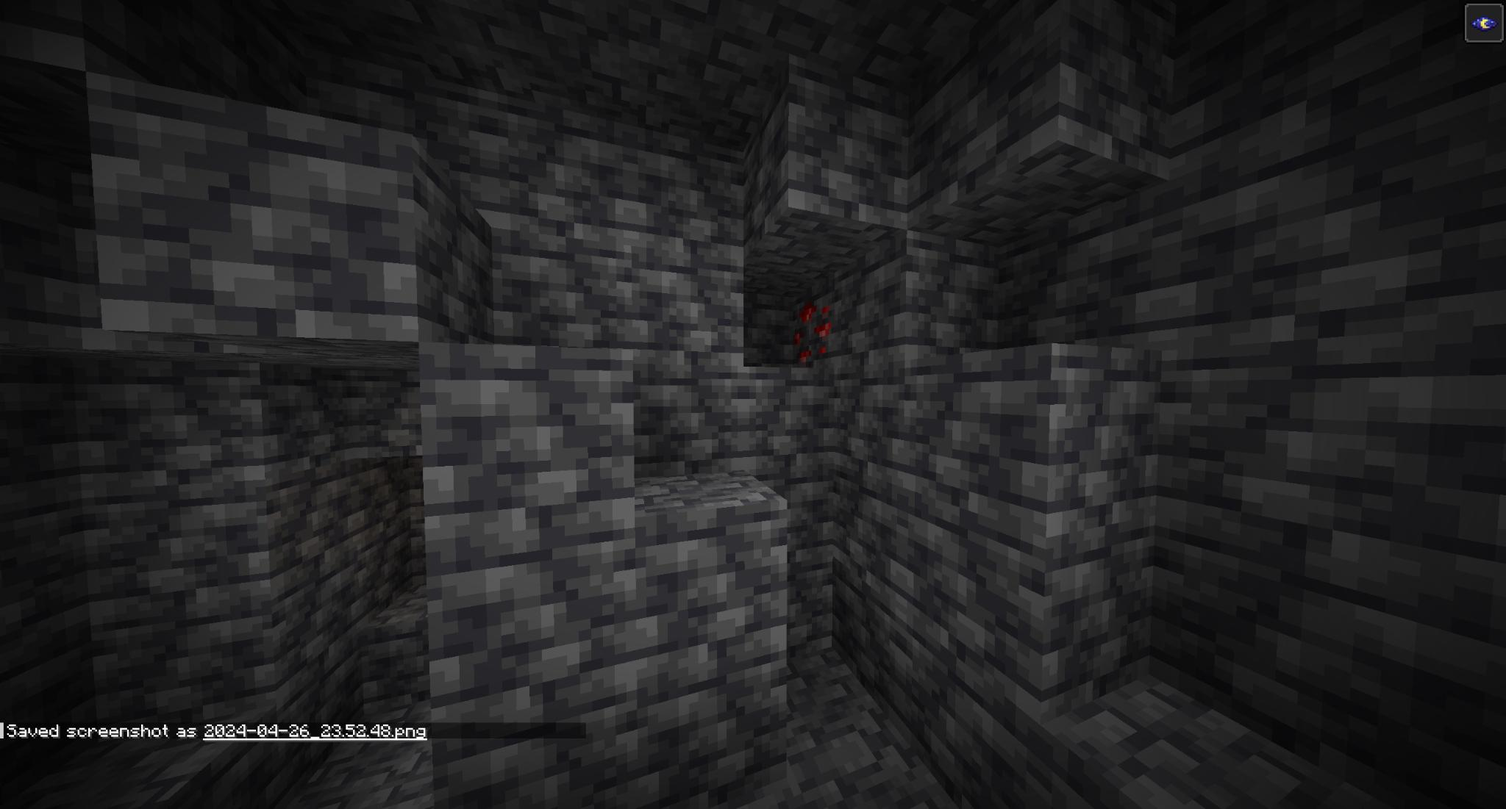redstone ore: (784, 295, 831, 368)
